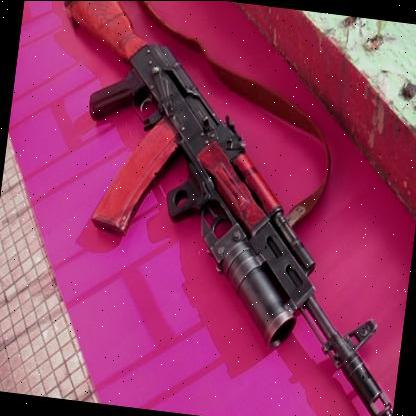rifle: (22, 0, 416, 407)
